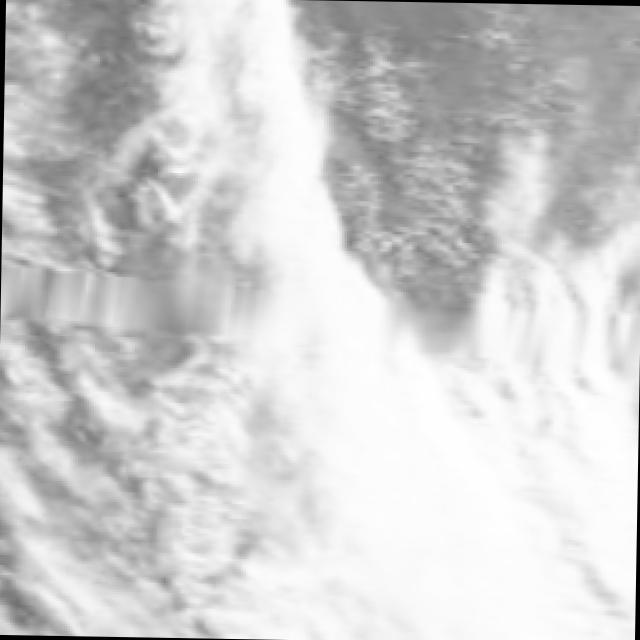CB: (461, 414, 638, 638), (381, 486, 584, 640), (312, 358, 446, 489)
